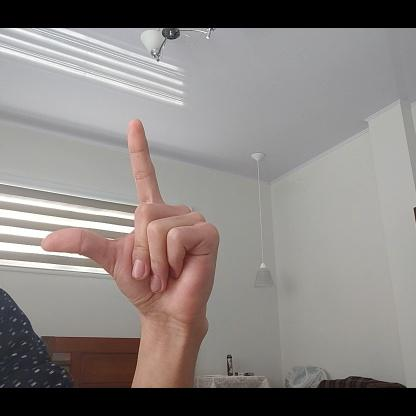L: (43, 116, 219, 317)
